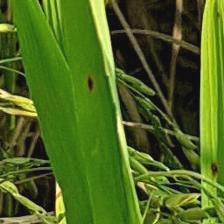Bacterial_Leaf_Blight: (84, 68, 98, 96)
